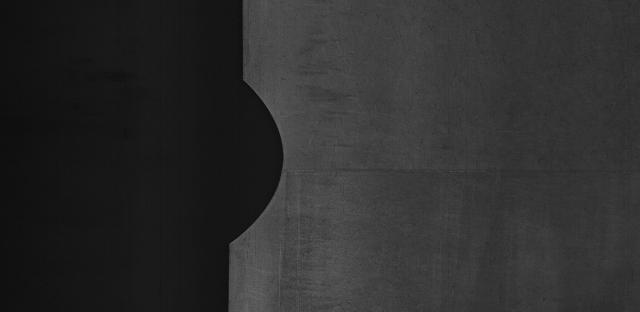welding_line: (272, 148, 640, 184)
